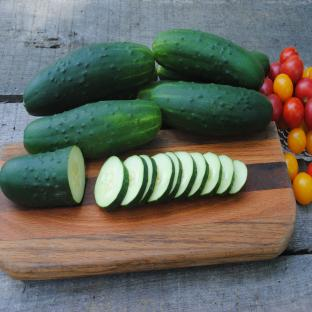Cucumber: (24, 43, 154, 116), (24, 100, 161, 158), (153, 30, 264, 90), (151, 82, 272, 135), (0, 146, 85, 206), (95, 156, 129, 212), (121, 155, 148, 208), (148, 154, 174, 204), (174, 152, 196, 201), (162, 152, 182, 203), (188, 153, 209, 199), (138, 155, 157, 205), (201, 153, 222, 196), (216, 155, 234, 195), (138, 81, 174, 100), (229, 160, 247, 193), (158, 66, 197, 81), (103, 87, 140, 100), (251, 52, 270, 76), (149, 66, 158, 81)
Tomato: (280, 56, 303, 85), (283, 98, 304, 128), (293, 173, 311, 204), (274, 74, 293, 103), (288, 128, 306, 153), (295, 78, 311, 105), (268, 94, 282, 124), (285, 153, 298, 182), (280, 47, 298, 63), (304, 98, 312, 129), (268, 62, 281, 81), (260, 78, 273, 96), (299, 119, 309, 135), (277, 116, 288, 130), (306, 131, 311, 154), (303, 67, 311, 77), (307, 163, 311, 176), (309, 71, 311, 78)
